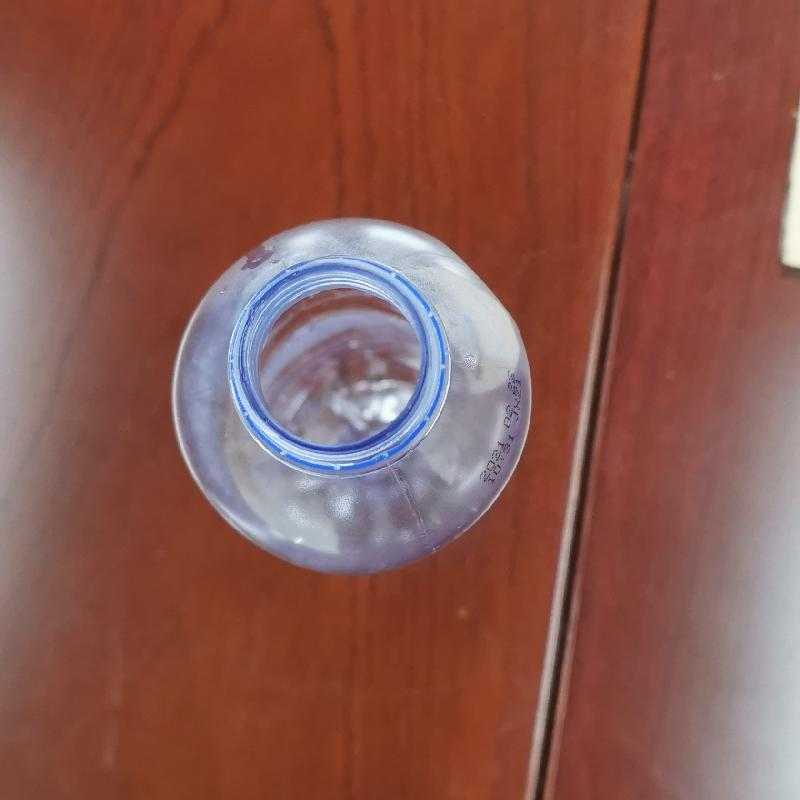bottles: (163, 214, 536, 577)
